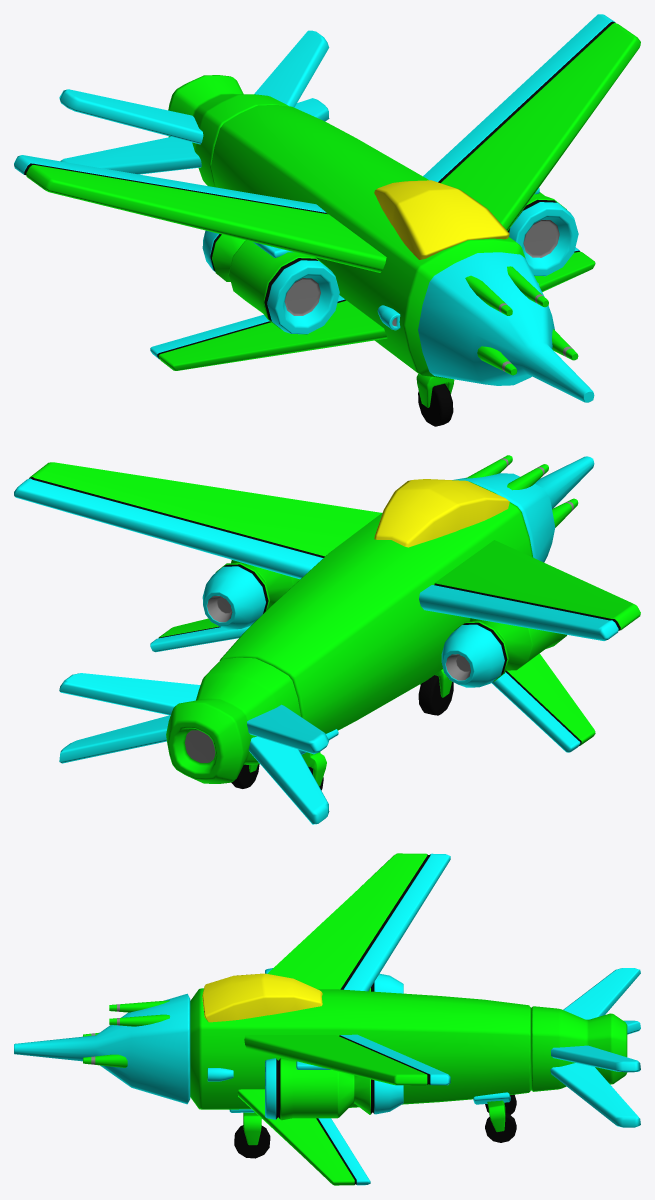
3 renders of one model, top to bottom at view 1: azimuth 30°, elevation 25°; view 2: azimuth 150°, elevation 25°; view 3: azimuth 270°, elevation 25°, orthographic. The views are drawn at different scales.
Parts seen in each view (by area): view 1: Body7, Wing7_L_A, Propeller7, Wing7_R_A, Fin7, Spurt7_R, Wing7_R, Spurt7_L, Body7_A, Wing7_L; view 2: Body7, Fin7, Wing7_L_A, Wing7_R_A, Propeller7, Spurt7_R, Wing7_R, Spurt7_L, Wing7_L, Body7_A, Body7_C; view 3: Body7, Wing7_R_A, Fin7, Propeller7, Spurt7_L, Wing7_L_A, Wing7_L, Body7_A, Body7_B, Spurt7_R.
Boxes of the visible parts, left/top/right/bottom form: Body7: left=211, top=105, right=539, bottom=378; Wing7_L_A: left=423, top=14, right=640, bottom=230; Propeller7: left=418, top=252, right=594, bottom=402; Wing7_R_A: left=14, top=155, right=386, bottom=272; Fin7: left=59, top=30, right=329, bottom=187; Spurt7_R: left=202, top=230, right=339, bottom=334; Wing7_R: left=150, top=295, right=387, bottom=370; Spurt7_L: left=507, top=188, right=578, bottom=276; Body7_A: left=416, top=374, right=454, bottom=426; Wing7_L: left=534, top=247, right=595, bottom=291; Body7: left=219, top=479, right=533, bottom=733; Fin7: left=59, top=657, right=329, bottom=824; Wing7_L_A: left=14, top=462, right=381, bottom=579; Wing7_R_A: left=419, top=540, right=640, bottom=640; Propeller7: left=452, top=455, right=594, bottom=562; Spurt7_R: left=441, top=618, right=566, bottom=687; Wing7_R: left=491, top=653, right=595, bottom=752; Spurt7_L: left=202, top=560, right=299, bottom=629; Wing7_L: left=150, top=618, right=250, bottom=652; Body7_A: left=418, top=669, right=453, bottom=715; Body7_C: left=299, top=729, right=338, bottom=790; Body7: left=190, top=973, right=531, bottom=1109; Wing7_R_A: left=267, top=853, right=450, bottom=991; Fin7: left=531, top=968, right=640, bottom=1127; Propeller7: left=14, top=993, right=190, bottom=1104; Spurt7_L: left=265, top=1057, right=403, bottom=1120; Wing7_L_A: left=244, top=1034, right=450, bottom=1085; Wing7_L: left=237, top=1089, right=370, bottom=1185; Body7_A: left=229, top=1109, right=270, bottom=1158; Body7_B: left=473, top=1092, right=516, bottom=1142; Spurt7_R: left=265, top=968, right=403, bottom=993.
Bounding box in the file's own units: 15.88 × 6.31 × 18.6.
